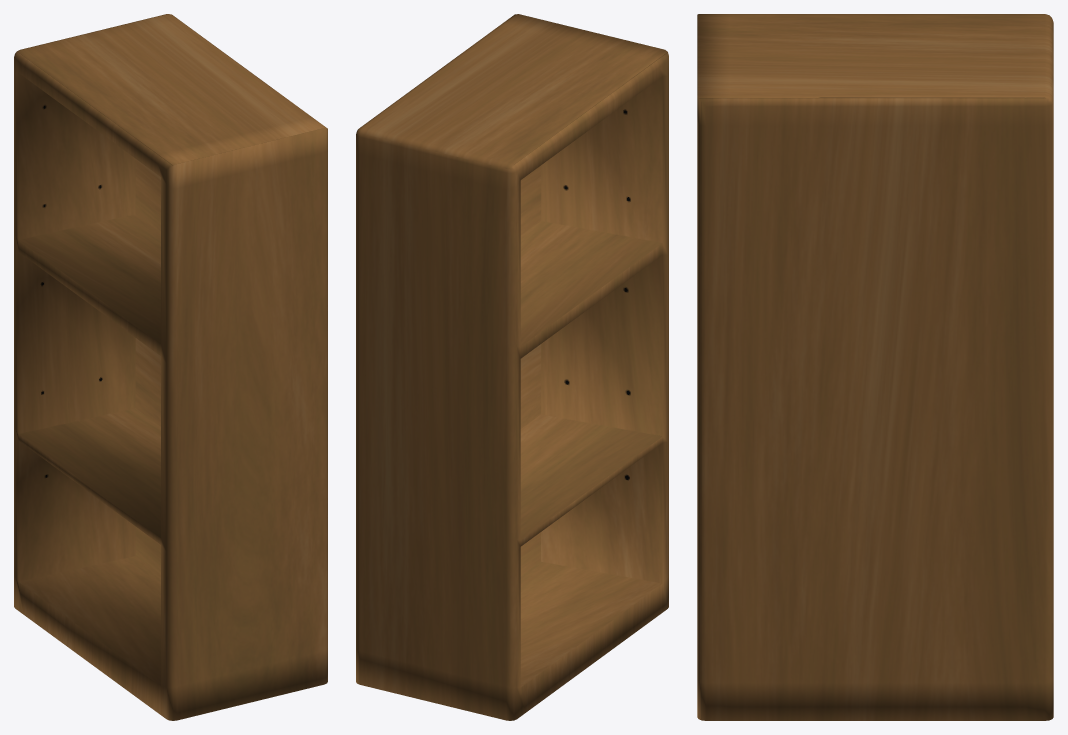
File: Bookshelf1.fbx
3 renders of one model, left to right at view 1: azimuth 30°, elevation 25°; view 2: azimuth 150°, elevation 25°; view 3: azimuth 270°, elevation 25°, orthographic. The views are drawn at different scales.
Visible parts, largest first — view 1: Bookshelf1; view 2: Bookshelf1; view 3: Bookshelf1.
Part boxes in pixels (box(x1,y1,x2,y2)): Bookshelf1: box(14, 14, 327, 720); Bookshelf1: box(356, 14, 668, 720); Bookshelf1: box(697, 14, 1053, 720).
Size of the model in its own units: 60.34 by 200 by 104.
